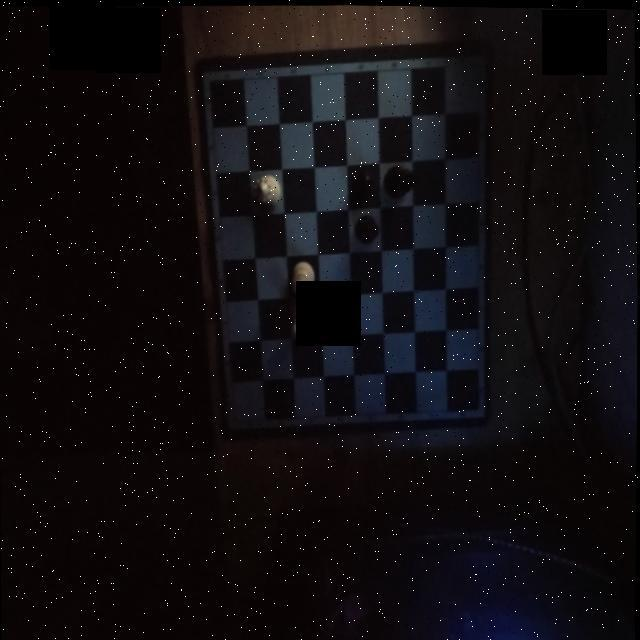chess-table-corners: (468, 396, 490, 416), (469, 54, 486, 76), (202, 70, 219, 92), (226, 410, 244, 430)
